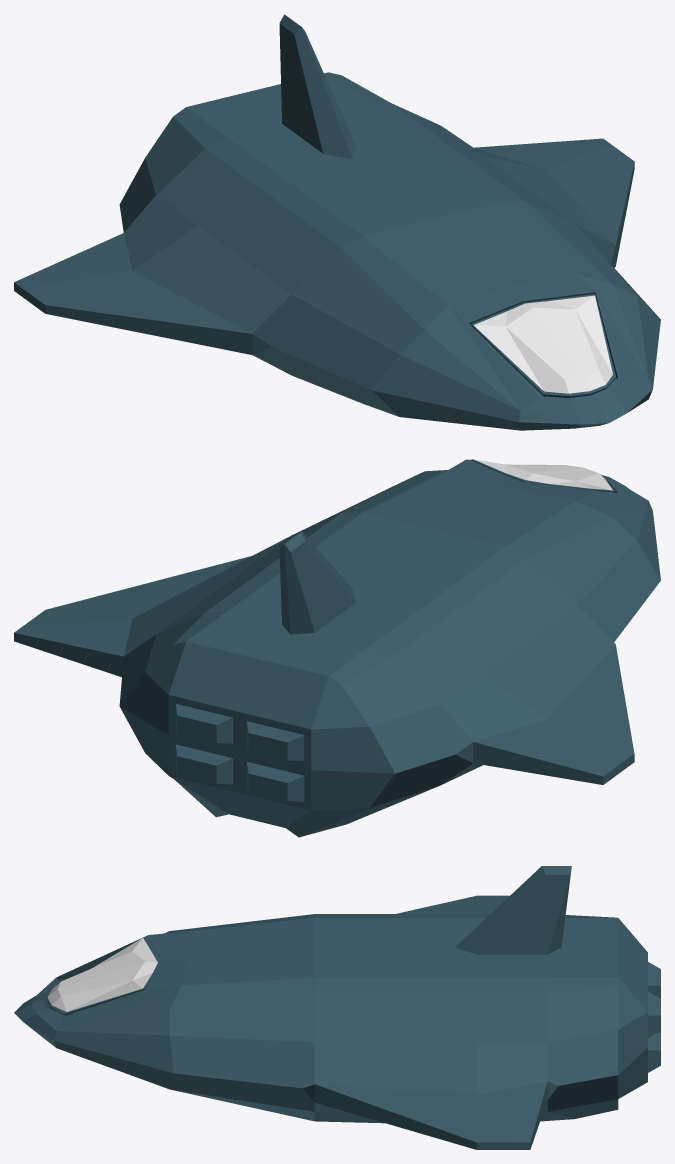
File: spaceship2.fbx
3 renders of one model, top to bottom at view 1: azimuth 30°, elevation 25°; view 2: azimuth 150°, elevation 25°; view 3: azimuth 270°, elevation 25°, orthographic. The views are drawn at different scales.
Visible parts, largest first — view 1: Cube; view 2: Cube; view 3: Cube.
Part boxes in pixels (box(x1,y1,x2,y2)): Cube: box(14, 14, 660, 430); Cube: box(14, 459, 660, 837); Cube: box(14, 866, 660, 1149).
Bounding box in the file's own units: 414 × 178 × 458.
